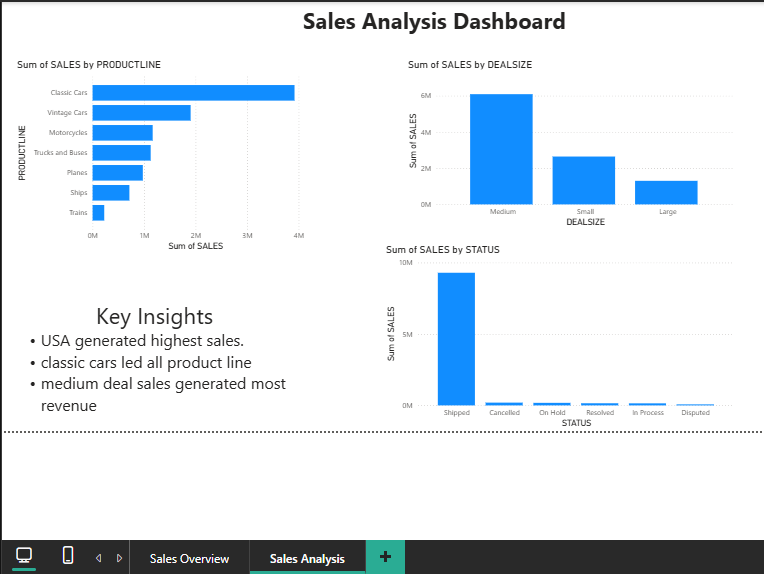

What the dashboard file says about the page in this screenshot:
{"tool":"powerbi","page":{"name":"Sales Analysis","canvas":[1280,720],"ordinal":1},"visuals":[{"type":"clusteredBarChart","fields":{"Category":["cleaned_project_sales_data_.PRODUCTLINE"],"Y":["Sum(cleaned_project_sales_data_.SALES)"]},"box":[20.2,94.1,492.2,329.2],"z":0},{"type":"columnChart","fields":{"Category":["cleaned_project_sales_data_.DEALSIZE"],"Y":["Sum(cleaned_project_sales_data_.SALES)"]},"box":[677,94.1,557.7,288.9],"z":1000},{"type":"columnChart","fields":{"Category":["cleaned_project_sales_data_.STATUS"],"Y":["Sum(cleaned_project_sales_data_.SALES)"]},"box":[640,404.8,594.6,315.8],"z":2000},{"type":"textbox","box":[20.2,495.5,470.3,225.1],"z":2001},{"type":"textbox","box":[500.6,0,529.1,72.2],"z":2002}]}

Visuals, with their boxes on the page's 1280x720 design canvas (x1, y1, x2, y2). These are canvas units, not pixel positions in the 764x574 screenshot, which may show the page scaled, cropped or inside an application window:
clusteredBarChart - cleaned_project_sales_data_.PRODUCTLINE x Sum(cleaned_project_sales_data_.SALES): 20, 94, 512, 423
columnChart - cleaned_project_sales_data_.DEALSIZE x Sum(cleaned_project_sales_data_.SALES): 677, 94, 1235, 383
columnChart - cleaned_project_sales_data_.STATUS x Sum(cleaned_project_sales_data_.SALES): 640, 405, 1235, 721
textbox: 20, 496, 490, 721
textbox: 501, 0, 1030, 72
